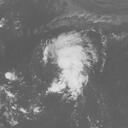cyclone: (41, 30, 88, 100)
